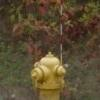a fire hydrant: (31, 53, 66, 100)
